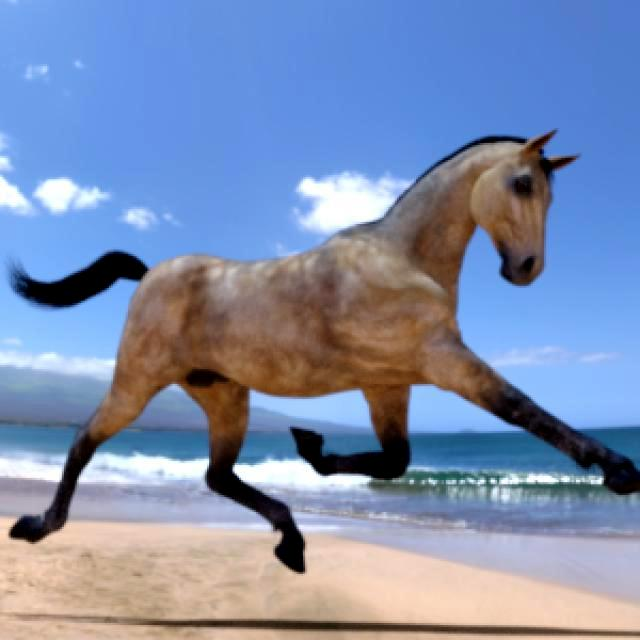horse: (10, 131, 640, 571)
